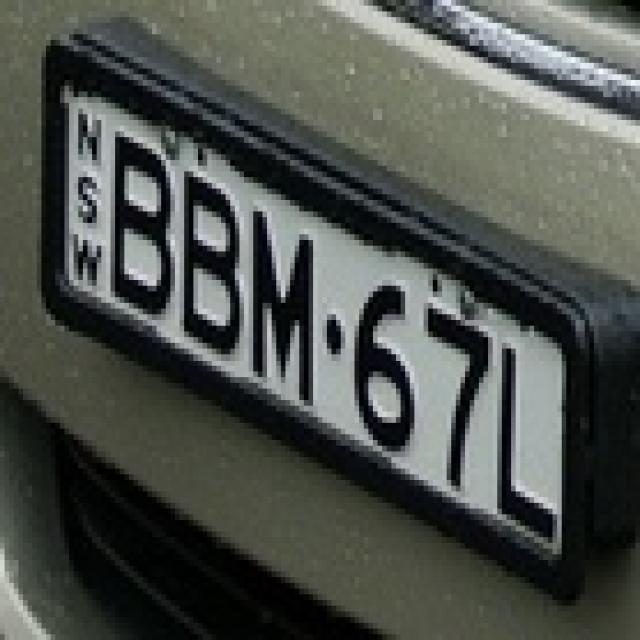LicensePlate: (35, 7, 619, 597)
